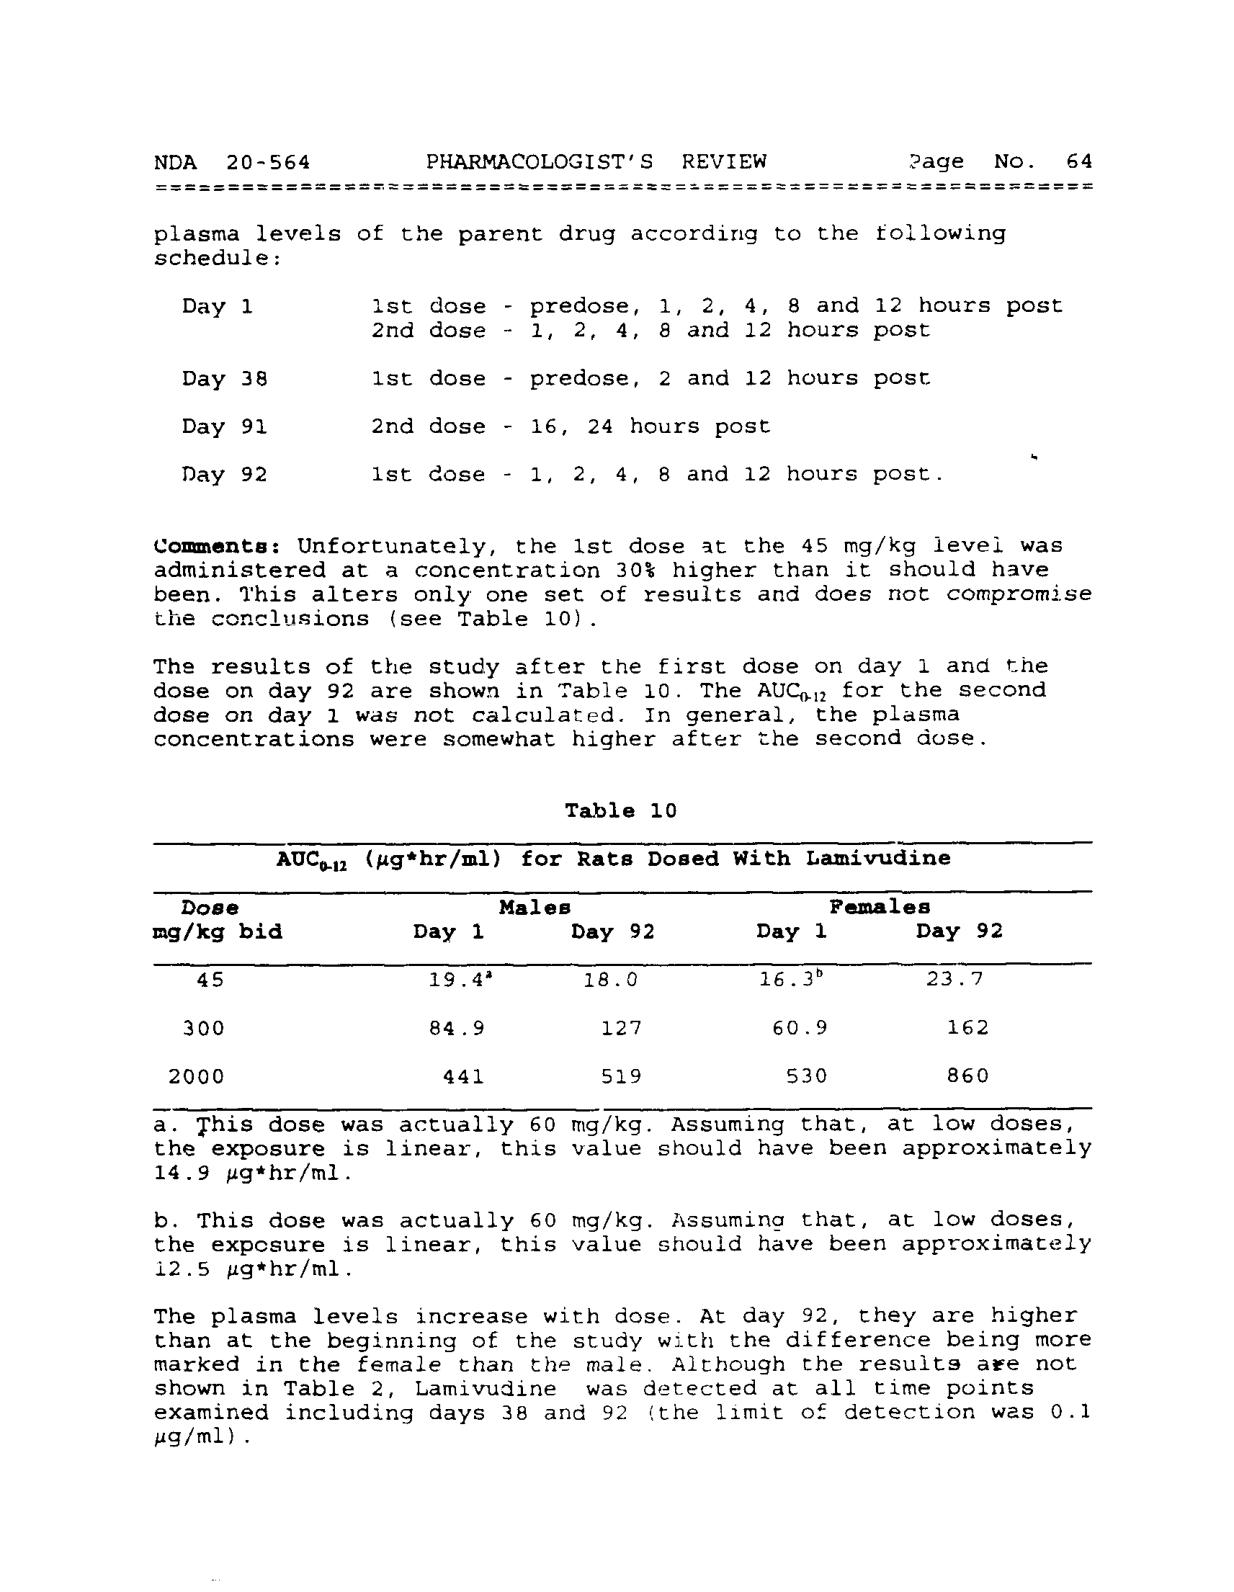nolines: (180, 295, 1061, 486)
partial_lined_merged_cells: (151, 840, 1096, 1113)
